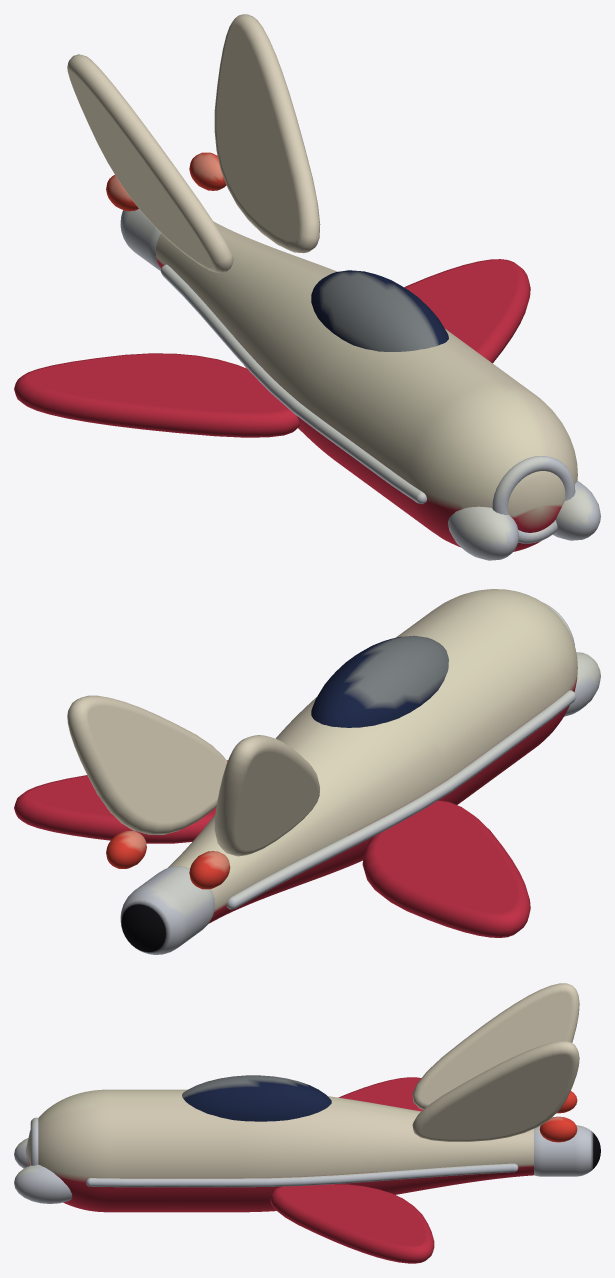
Rendered from streamliner-starfighter.obj.
3 views of the same model, one above another, from view 1: azimuth 30°, elevation 25°; view 2: azimuth 150°, elevation 25°; view 3: azimuth 270°, elevation 25° (orthographic). The views are drawn at different scales.
Visible parts, largest first — view 1: starfighter; view 2: starfighter; view 3: starfighter.
Part boxes in pixels (bbox=[...]): starfighter: bbox=[14, 14, 600, 560]; starfighter: bbox=[14, 589, 600, 954]; starfighter: bbox=[14, 983, 600, 1263].
Bounding box in the file's own units: 176 × 90.49 × 249.
